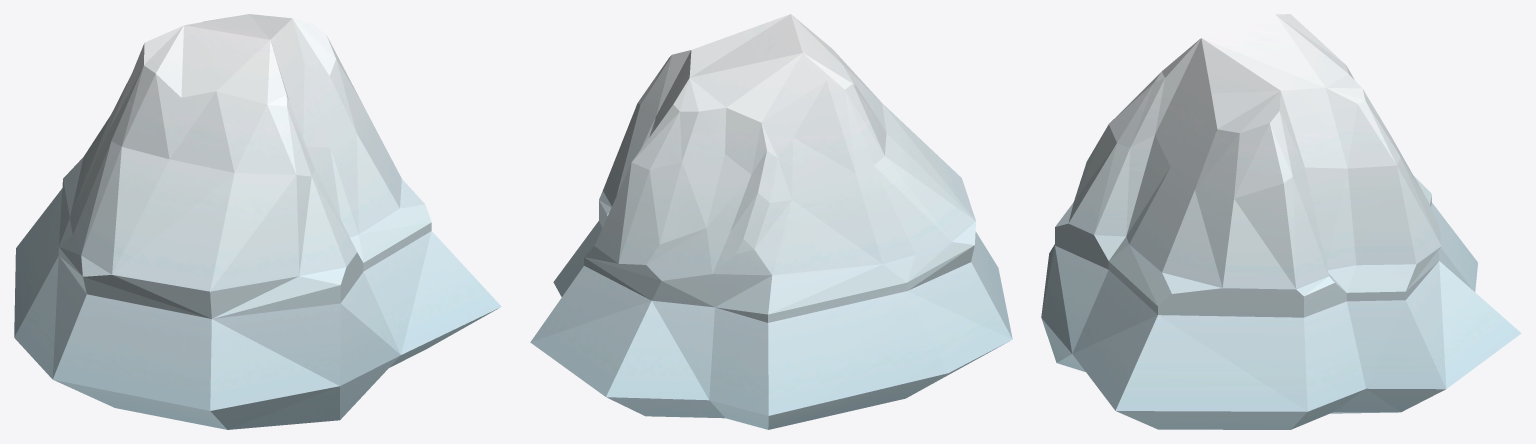
3 renders of one model, left to right at view 1: azimuth 30°, elevation 25°; view 2: azimuth 150°, elevation 25°; view 3: azimuth 270°, elevation 25°, orthographic. The views are drawn at different scales.
Visible parts, largest first — view 1: IceBerg; view 2: IceBerg; view 3: IceBerg.
Boxes of the visible parts, x1,y1,x2,y2 form: IceBerg: (14,14,501,429); IceBerg: (530,14,1012,429); IceBerg: (1041,14,1521,429).
Size of the model in its own units: 119 by 104 by 120.
Materials: 1 (1 with a texture image).
